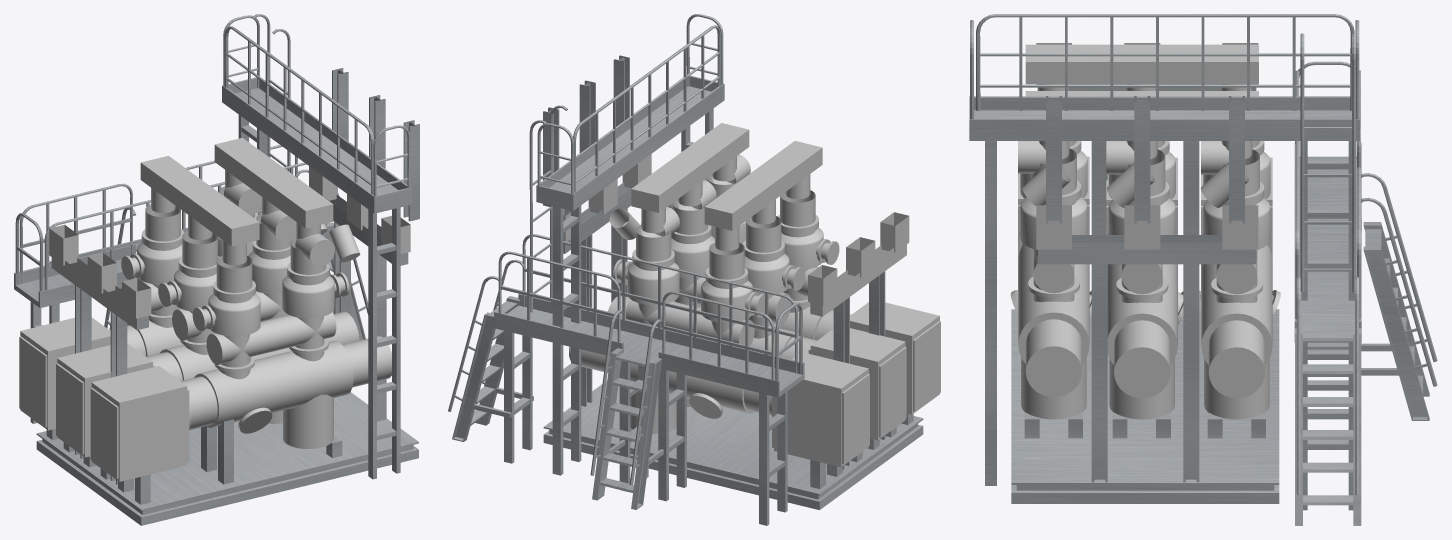
File: Machine004_2.FBX
3 renders of one model, left to right at view 1: azimuth 30°, elevation 25°; view 2: azimuth 150°, elevation 25°; view 3: azimuth 270°, elevation 25°, orthographic. The views are drawn at different scales.
Visible parts, largest first — view 1: Machine004_2; view 2: Machine004_2; view 3: Machine004_2.
Part boxes in pixels (bbox=[...]): Machine004_2: bbox=[14, 14, 419, 525]; Machine004_2: bbox=[448, 14, 940, 525]; Machine004_2: bbox=[969, 14, 1437, 525].
Bounding box in the file's own units: 590 × 546 × 512.
